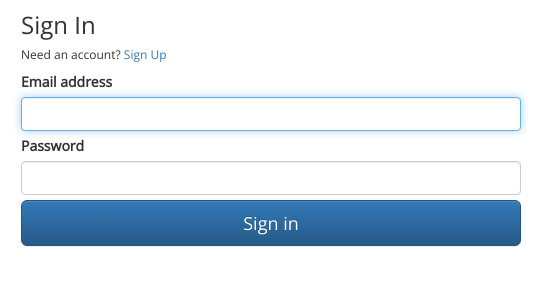
Test: Signin test › should show an error message on failed sign in
This screenshot has width=543, height=282.
Type "admin@domain.com" into the field with test id "email". click: (271,114)
box: [21,97,521,131]
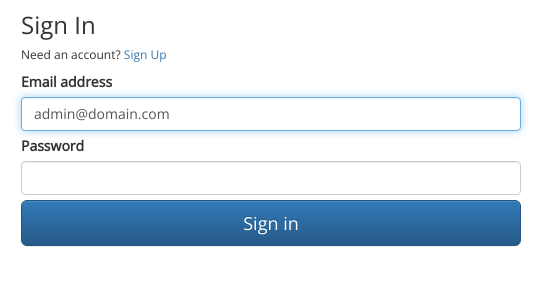
Type "123456" into the password field with test id "password". click: (271,178)
box: [21,161,521,195]
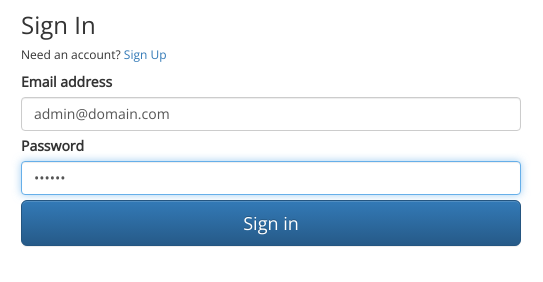
Click the button with test id "submit". click: (271,223)
box: [21,200,521,246]
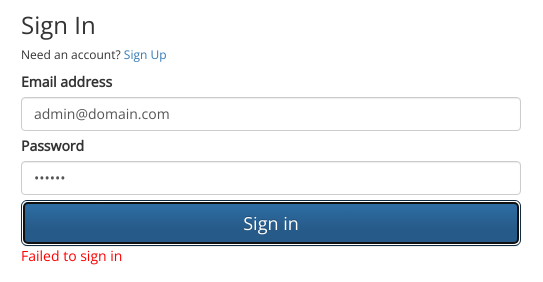
Expected: the text "Failed to sign in" is shown, [21,246,122,265]
